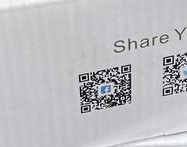2d: (78, 64, 132, 114)
